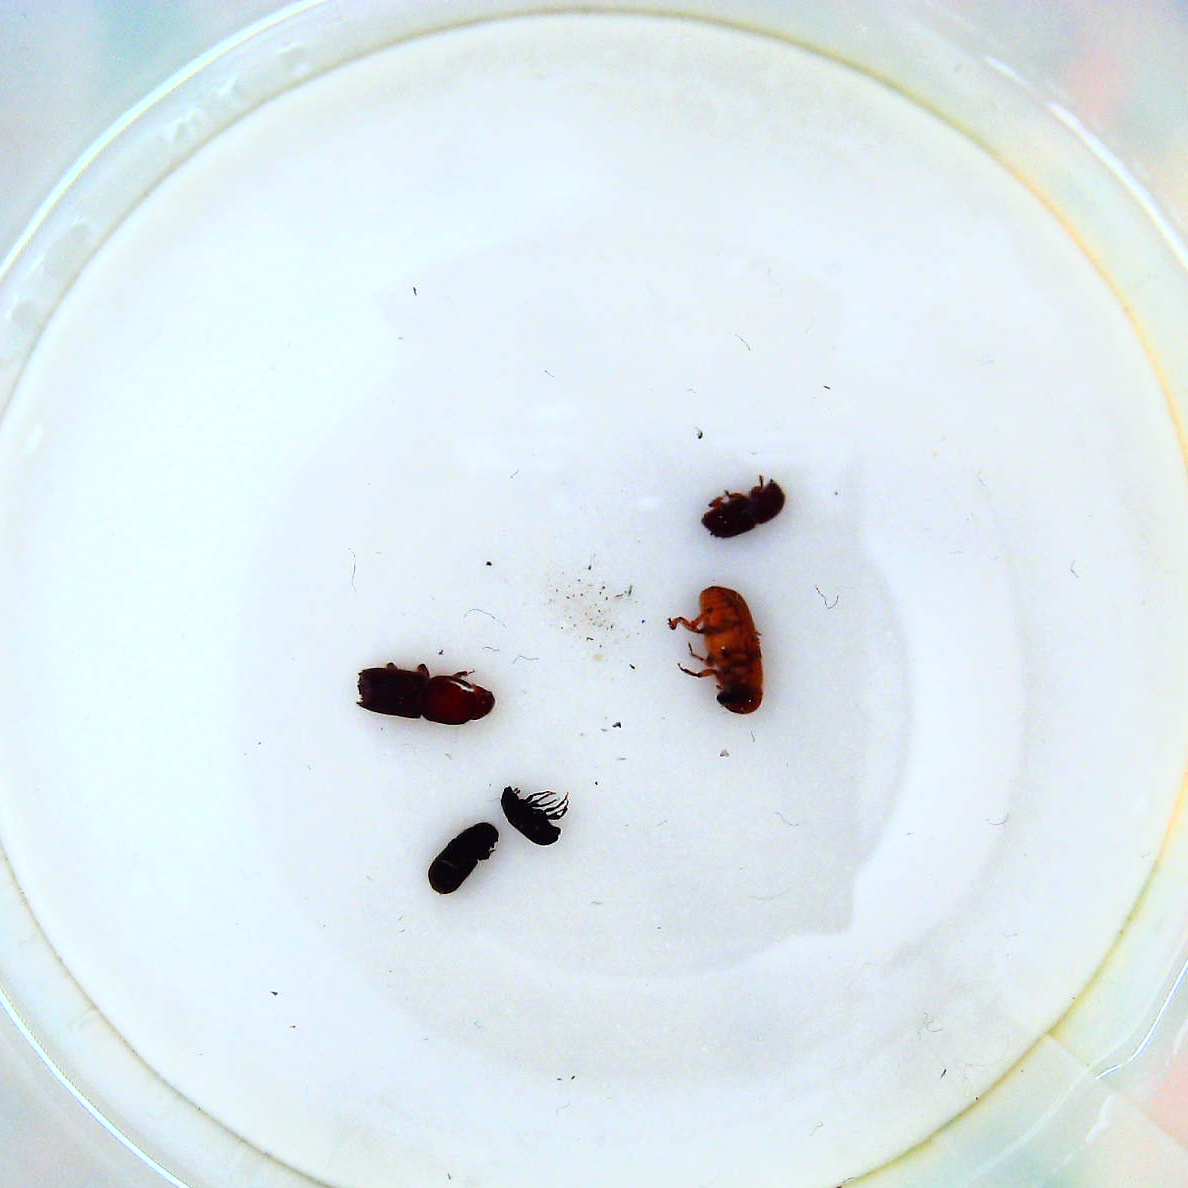Boerner: (349, 656, 500, 731)
Leconte: (669, 580, 769, 722)
armandi: (425, 819, 510, 900)
coleoptera: (498, 778, 581, 851)
linnaeus: (700, 475, 795, 539)
